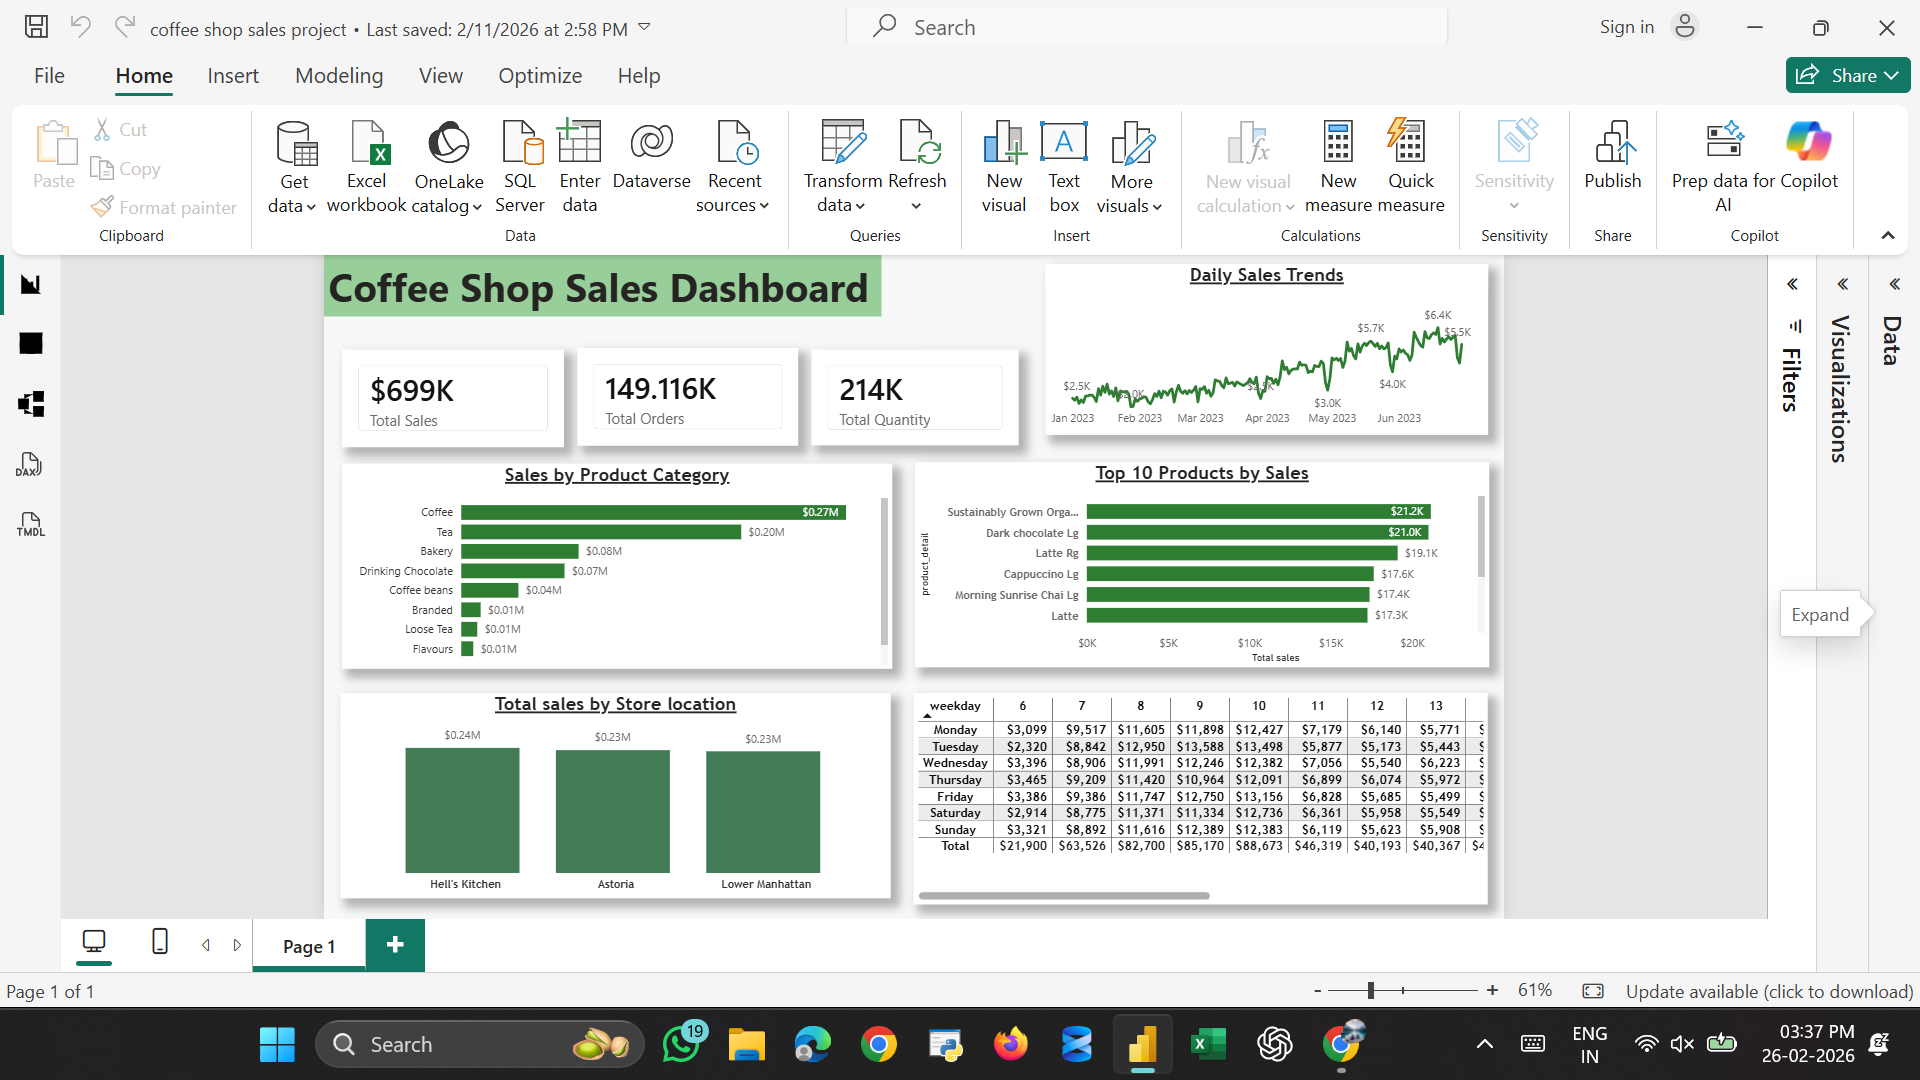

This screenshot's page, from the dashboard's own definition file:
{"tool":"powerbi","page":{"name":"Page 1","canvas":[1280,720],"ordinal":0},"visuals":[{"type":"shape","box":[0,0,604.5,66.7],"z":0},{"type":"cardVisual","fields":{"Data":["Transactions.Total sales"]},"box":[19.5,102.5,240.7,105.7],"z":1000},{"type":"textbox","box":[0,0,604.5,66.7],"z":3000},{"type":"lineChart","title":"Daily Sales Trends","fields":{"Y":["Transactions.Total sales"],"Category":["Date Table.Date.Variation.Date Hierarchy.Year","Date Table.Date.Variation.Date Hierarchy.Quarter","Date Table.Date.Variation.Date Hierarchy.Month","Date Table.Date.Variation.Date Hierarchy.Day"]},"box":[782.4,9.4,480,185.2],"z":4000},{"type":"cardVisual","fields":{"Data":["CountNonNull(Transactions.transaction_id)"]},"box":[274.9,100.8,239.1,105.7],"z":5000},{"type":"cardVisual","fields":{"Data":["Sum(Transactions.transaction_qty)"]},"box":[528.6,102.5,224.5,104.1],"z":6000},{"type":"clusteredBarChart","title":"Sales by Product Category","fields":{"Category":["Transactions.product_category"],"Y":["Transactions.Total sales"]},"box":[19.5,226.1,596.9,222.8],"z":7000},{"type":"clusteredBarChart","title":"Top 10 Products by Sales","fields":{"Category":["Transactions.product_detail"],"Y":["Transactions.Total sales"]},"box":[640.9,224.5,623,222.8],"z":8000},{"type":"clusteredColumnChart","title":"Total sales by Store location","fields":{"Category":["Transactions.store_location"],"Y":["Transactions.Total sales"]},"box":[17.9,475,596.9,222.8],"z":9000},{"type":"pivotTable","fields":{"Rows":["Date Table.weekday"],"Columns":["Transactions.Hour"],"Values":["Transactions.Total sales"]},"box":[639.2,475,623,229.3],"z":10000}]}

Visuals, with their boxes on the page's 1280x720 design canvas (x1, y1, x2, y2). These are canvas units, not pixel positions in the 1920x1080 screenshot, which may show the page scaled, cropped or inside an application window:
shape: 0 0 604 67
cardVisual - Transactions.Total sales: 20 102 260 208
textbox: 0 0 604 67
"Daily Sales Trends" lineChart: 782 9 1262 195
cardVisual - CountNonNull(Transactions.transaction_id): 275 101 514 206
cardVisual - Sum(Transactions.transaction_qty): 529 102 753 207
"Sales by Product Category" clusteredBarChart: 20 226 616 449
"Top 10 Products by Sales" clusteredBarChart: 641 224 1264 447
"Total sales by Store location" clusteredColumnChart: 18 475 615 698
pivotTable - Date Table.weekday x Transactions.Hour: 639 475 1262 704
